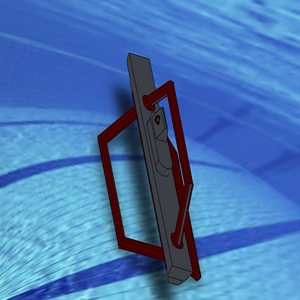submarine: (66, 41, 233, 291)
